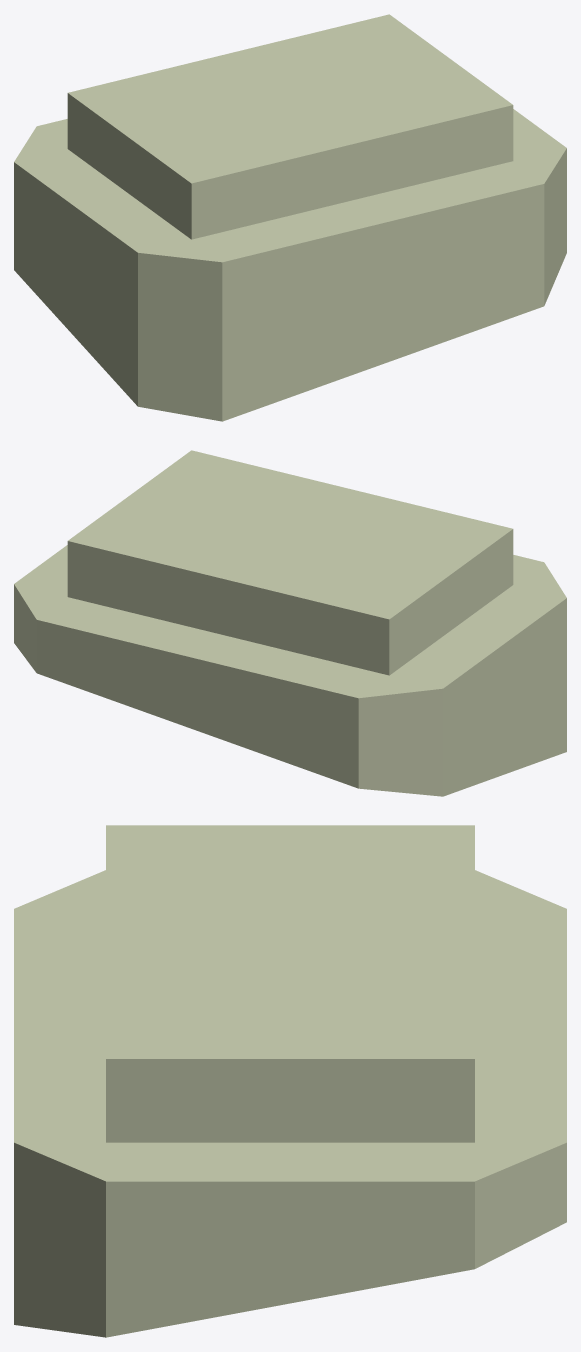
The model's file is deb_exchanger.obj.
3 renders of one model, top to bottom at view 1: azimuth 30°, elevation 25°; view 2: azimuth 150°, elevation 25°; view 3: azimuth 270°, elevation 25°, orthographic. The views are drawn at different scales.
Visible parts, largest first — view 1: Plane; view 2: Plane; view 3: Plane.
Part boxes in pixels (x1,y1,x2,y2): Plane: (14, 14, 566, 421); Plane: (14, 450, 566, 796); Plane: (14, 825, 566, 1337).
Size of the model in its own units: 1 by 0.4798 by 0.75.
